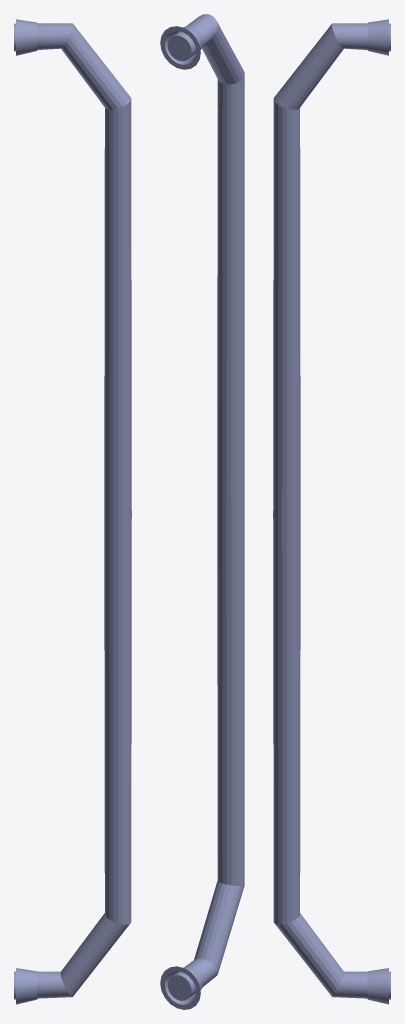
Rendered from ExitVault_Handle.fbx.
The picture shows the model from 3 angles, left to right: view 1: azimuth 90°, elevation 25°; view 2: azimuth 150°, elevation 25°; view 3: azimuth 270°, elevation 25°; orthographic projection.
Parts seen in each view (by area): view 1: ExitVault_Handle; view 2: ExitVault_Handle; view 3: ExitVault_Handle.
Part boxes in pixels (left/top/right/bottom): ExitVault_Handle: left=14, top=19, right=131, bottom=1004; ExitVault_Handle: left=160, top=14, right=244, bottom=1009; ExitVault_Handle: left=273, top=19, right=390, bottom=1004.
Size of the model in its own units: 3.45 by 8.56 by 79.59.
